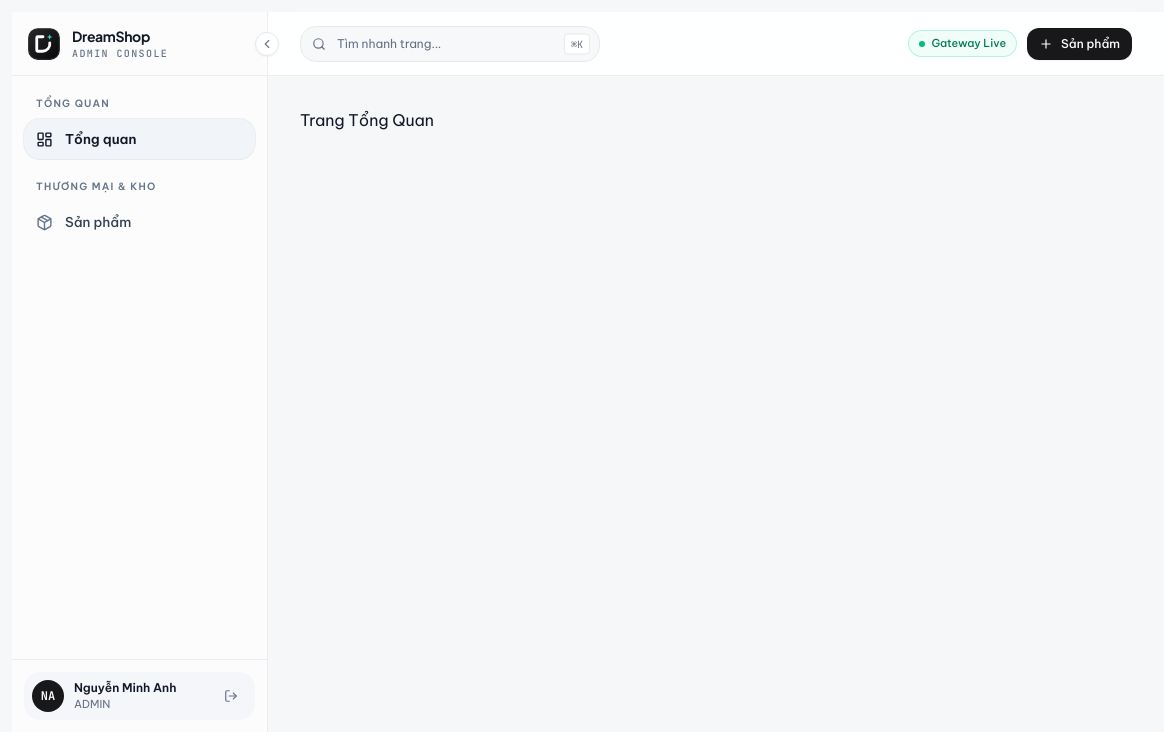
Test: AdminShell › displays operator profile and invokes logout
Expected: the text "Nguyễn Minh Anh" is shown, left=74, top=680, right=176, bottom=694
Click the button named "Đăng xuất": {"x": 231, "y": 696} left=215, top=680, right=247, bottom=712
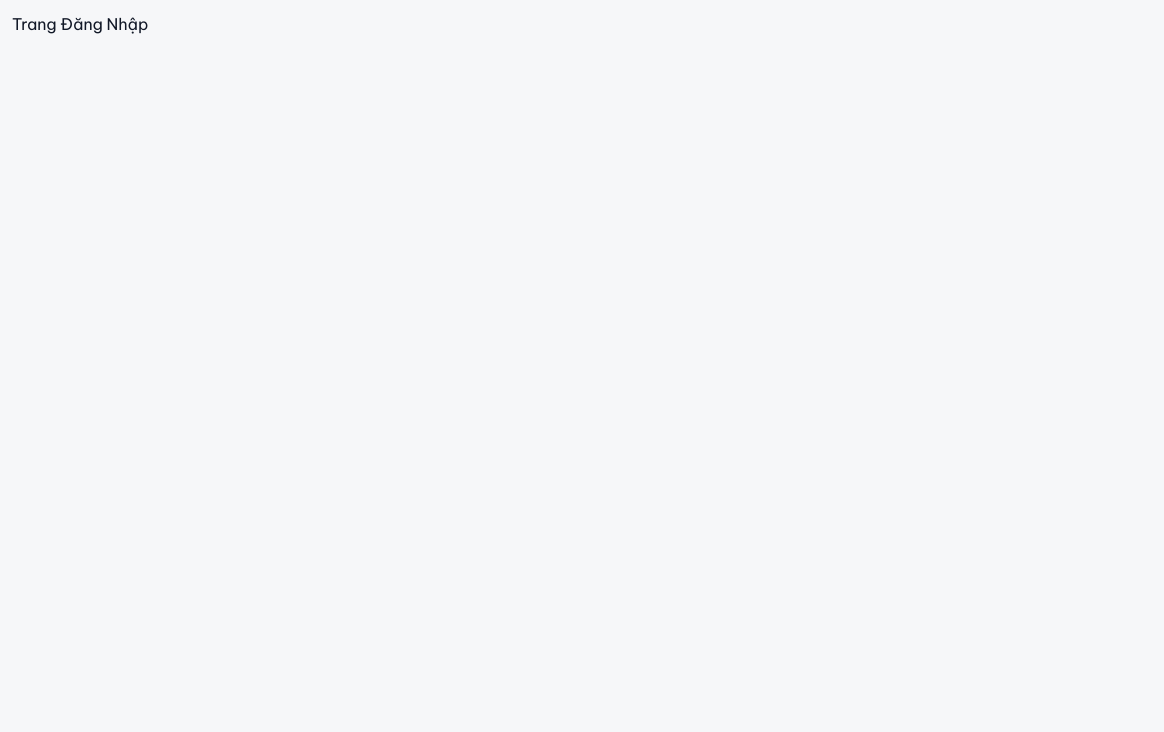
Expected: the text "Trang Đăng Nhập" is shown, left=12, top=14, right=148, bottom=34
